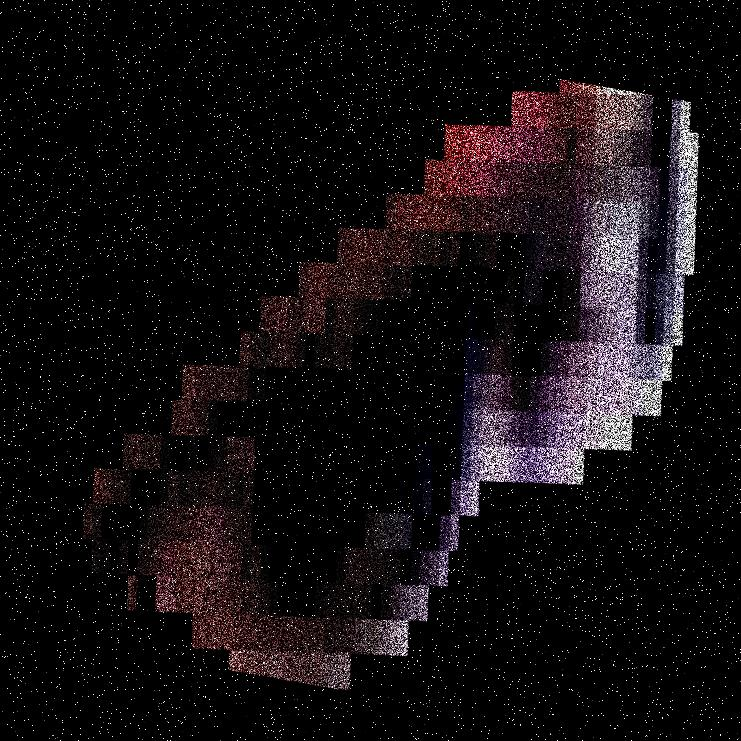Oculos: (332, 0, 525, 740)
